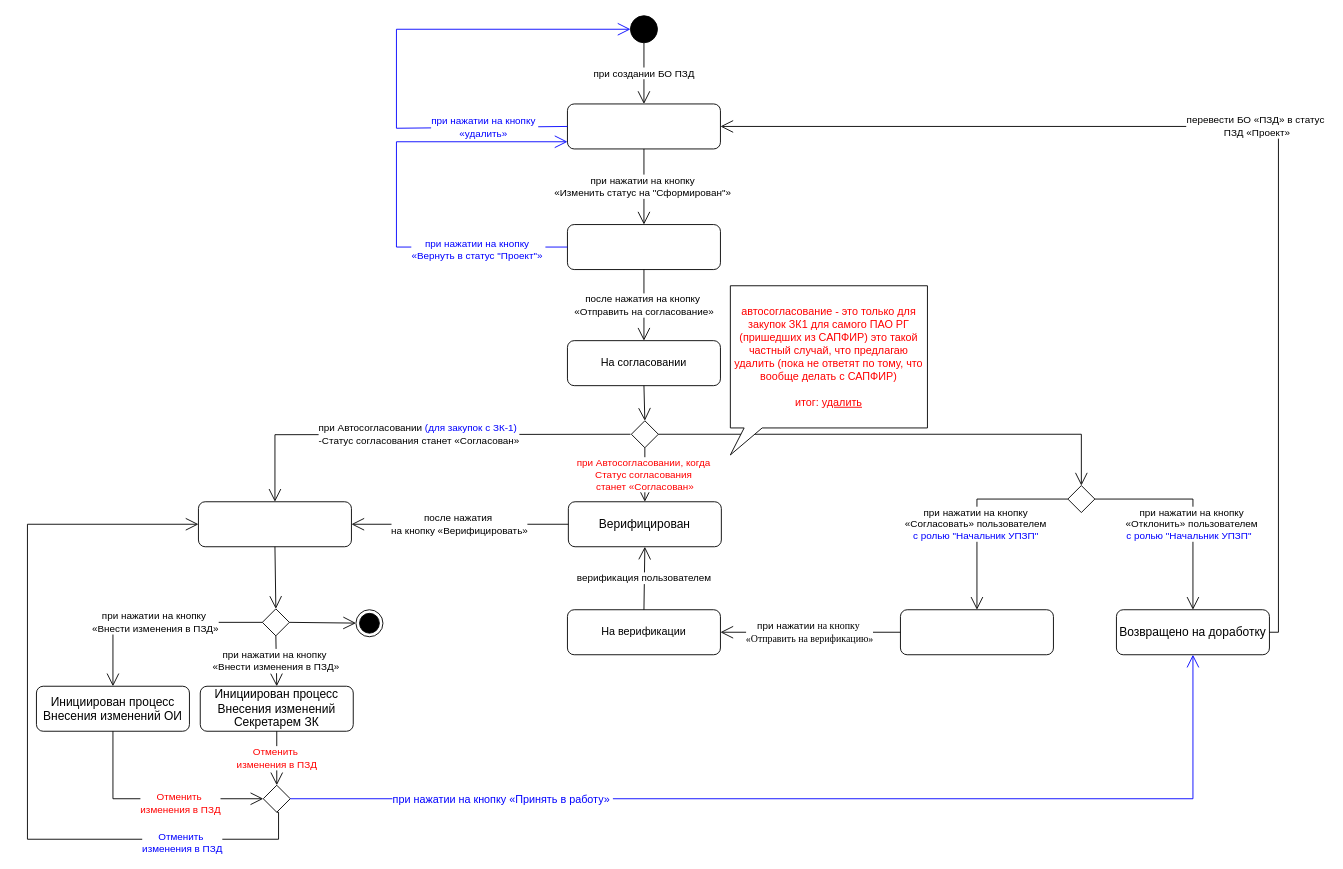
This 1343x869 diagram has some shape labels left out. Here are the shapes that lost their labels. From the top down, the box of each, then its label:
(567, 103, 720, 149): Проект
(567, 224, 720, 270): Сформирован
(198, 501, 351, 547): Согласован
(900, 609, 1053, 655): Согласовано АО «РГС»
